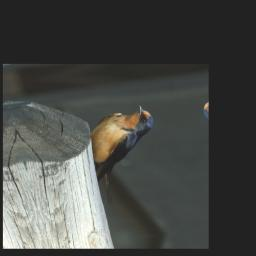Swallow: (79, 104, 174, 208)
